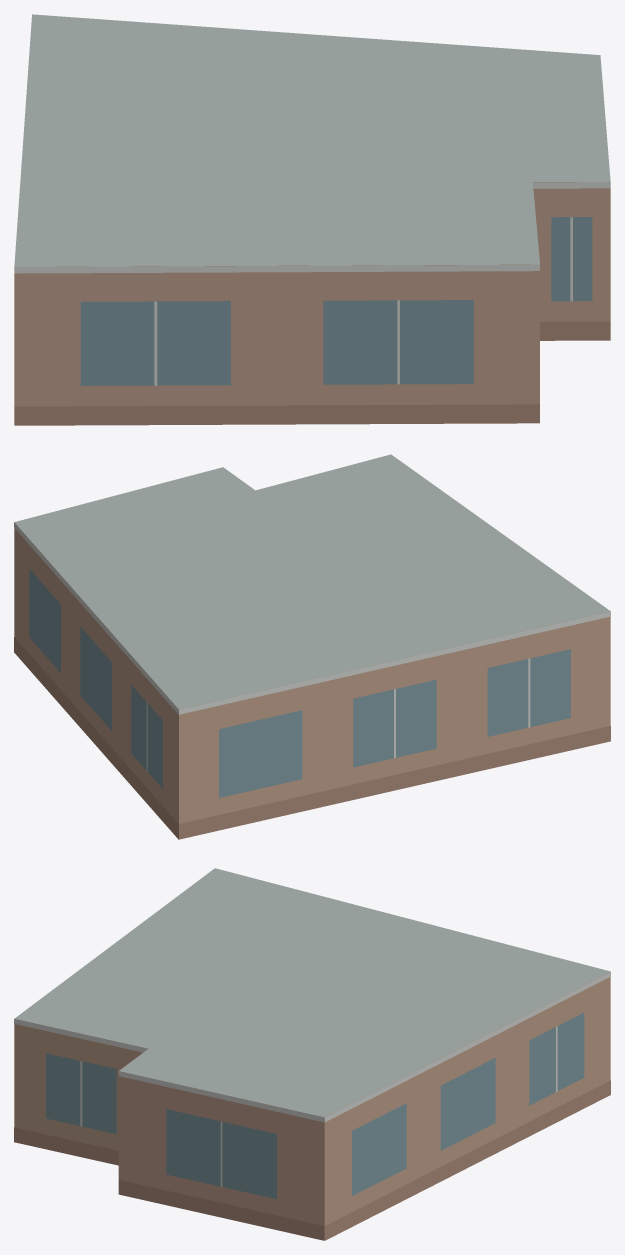
File: survey-upis-32735847.glb
The picture shows the model from 3 angles, top to bottom: view 1: azimuth 30°, elevation 25°; view 2: azimuth 150°, elevation 25°; view 3: azimuth 270°, elevation 25°; orthographic projection. The views are drawn at different scales.
Visible parts, largest first — view 1: survey-upis-32735847.tmp; view 2: survey-upis-32735847.tmp; view 3: survey-upis-32735847.tmp.
Part boxes in pixels (x1=…): survey-upis-32735847.tmp: x1=14, y1=14, x2=610, y2=425; survey-upis-32735847.tmp: x1=14, y1=454, x2=610, y2=839; survey-upis-32735847.tmp: x1=14, y1=868, x2=610, y2=1240.
Size of the model in its own units: 13.23 by 3.05 by 13.38.
